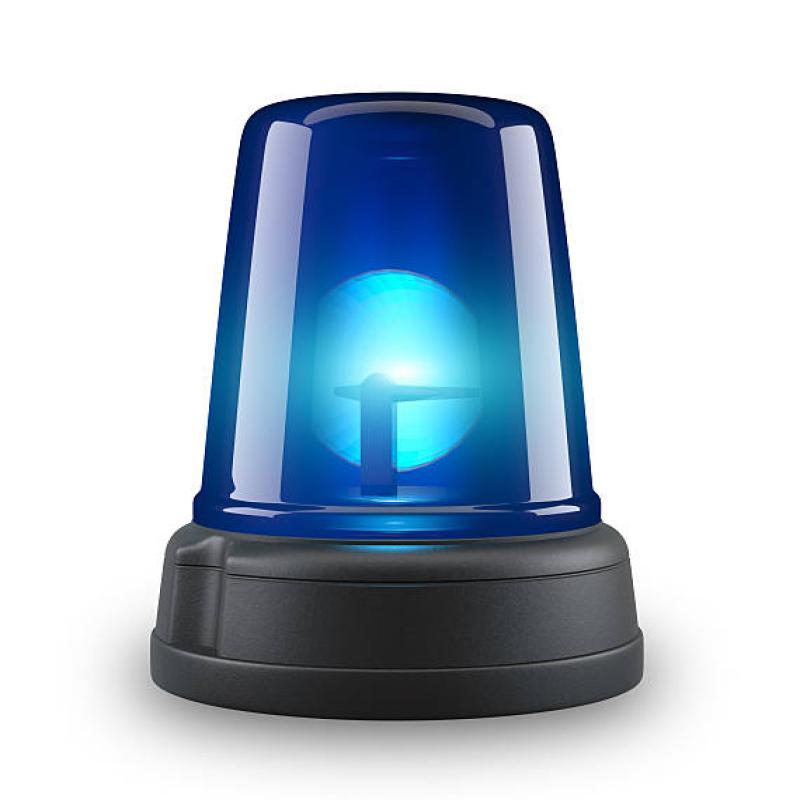AmbulanceSiren: (139, 47, 665, 713)
